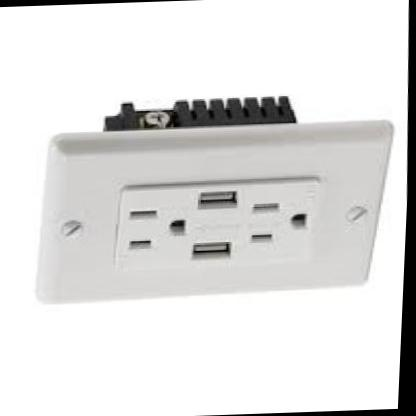OUTLET: (28, 123, 379, 308)
